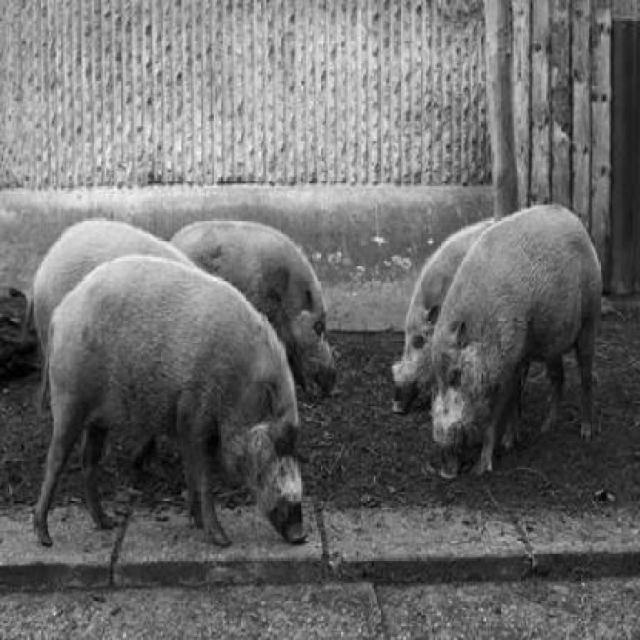Boar: (17, 231, 321, 578), (423, 203, 605, 502), (259, 189, 361, 411), (359, 236, 464, 404)
